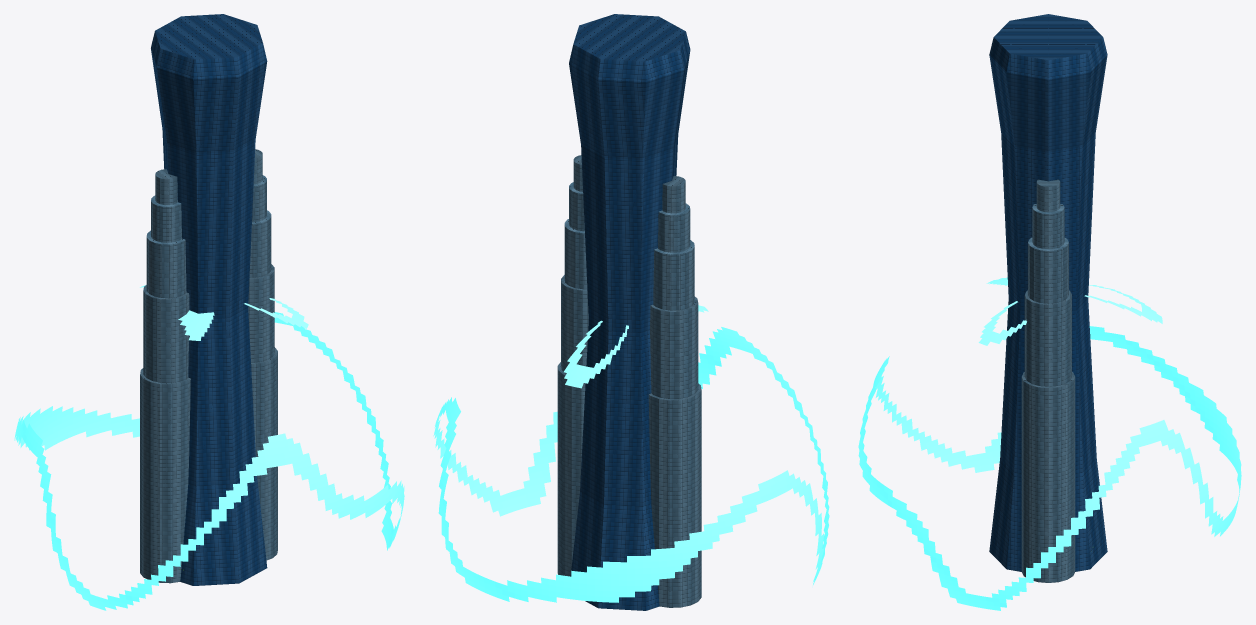
The model's file is Catalog-44.glb.
3 views of the same model, side by side, from view 1: azimuth 30°, elevation 25°; view 2: azimuth 150°, elevation 25°; view 3: azimuth 270°, elevation 25° (orthographic). The views are drawn at different scales.
Visible parts, largest first — view 1: Metropolis Glass Azure, Metropolis Glass SilverBlue, Metropolis Sphere Screen 00; view 2: Metropolis Glass Azure, Metropolis Glass SilverBlue, Metropolis Sphere Screen 00; view 3: Metropolis Glass Azure, Metropolis Glass SilverBlue, Metropolis Sphere Screen 00.
Boxes of the visible parts, x1,y1,x2,y2 form: Metropolis Glass Azure: (151,14,267,585); Metropolis Glass SilverBlue: (140,149,277,583); Metropolis Sphere Screen 00: (14,285,404,610); Metropolis Glass Azure: (569,14,690,610); Metropolis Glass SilverBlue: (557,155,701,607); Metropolis Sphere Screen 00: (433,305,829,602); Metropolis Glass Azure: (989,14,1107,571); Metropolis Glass SilverBlue: (1021,179,1075,582); Metropolis Sphere Screen 00: (858,277,1241,610).
Size of the model in its own units: 359 by 528 by 356.
Materials: 5 (2 with a texture image).
